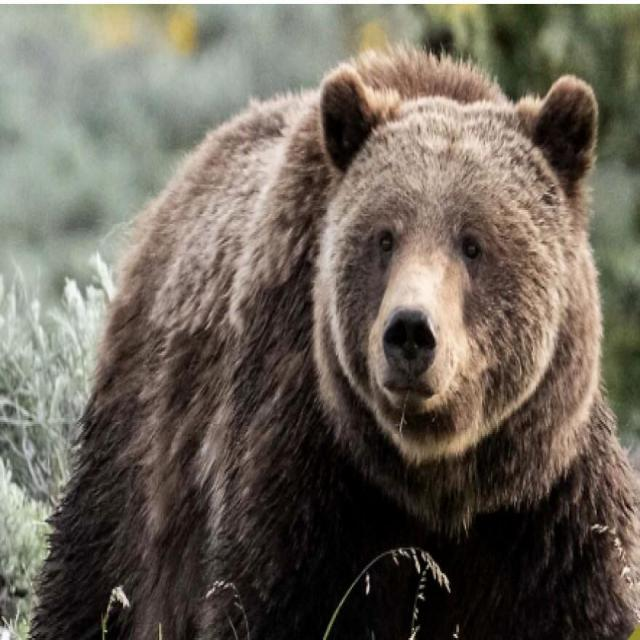Bear: (29, 43, 640, 640)
